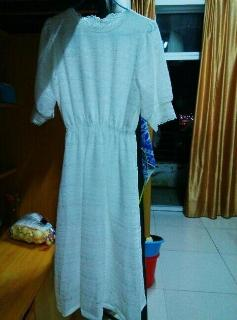short sleeve dress: (30, 7, 176, 319)
